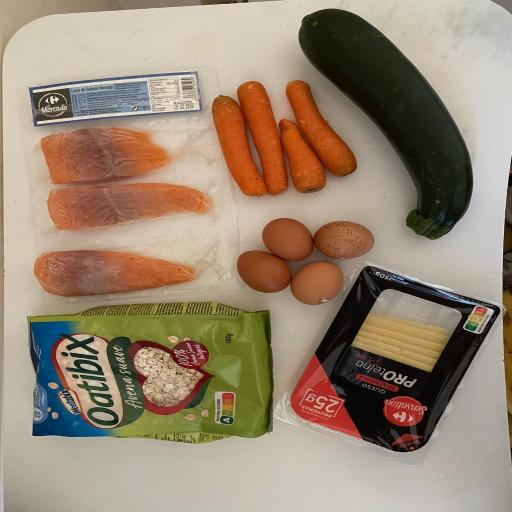carrot: (283, 78, 362, 180), (210, 92, 267, 202), (238, 80, 290, 196), (271, 118, 331, 196)
cheese: (289, 265, 502, 456)
courgette: (295, 6, 477, 241)
egg: (286, 258, 348, 307), (234, 247, 294, 295), (314, 219, 377, 263), (261, 217, 317, 264)
oat: (23, 300, 280, 446)
salmon: (40, 182, 215, 234), (32, 248, 202, 300), (39, 123, 173, 185)
